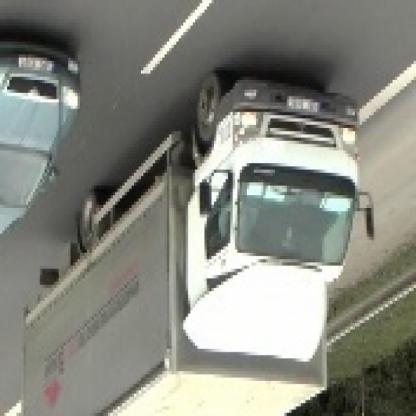truck: (22, 74, 373, 416)
